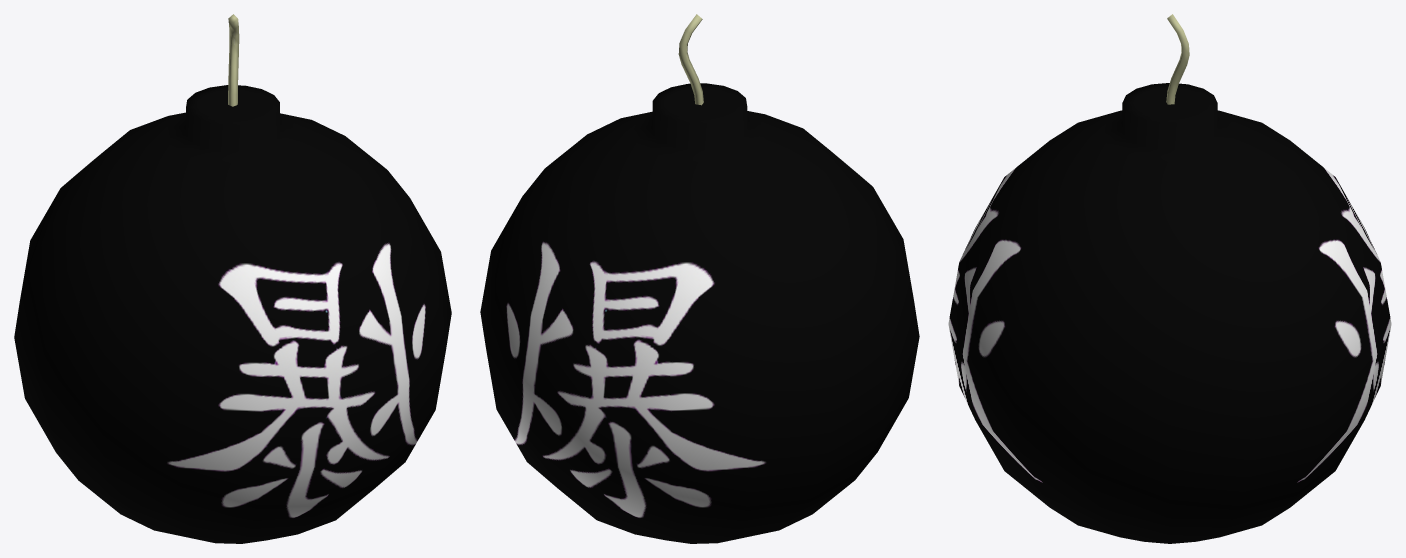
The model's file is bomb.fbx.
3 views of the same model, side by side, from view 1: azimuth 30°, elevation 25°; view 2: azimuth 150°, elevation 25°; view 3: azimuth 270°, elevation 25° (orthographic).
Parts seen in each view (by area): view 1: bomb; view 2: bomb; view 3: bomb.
Part boxes in pixels (left/top/right/bottom): bomb: left=14, top=14, right=451, bottom=543; bomb: left=480, top=14, right=919, bottom=543; bomb: left=948, top=14, right=1391, bottom=543.
Size of the model in its own units: 29.84 by 38.02 by 29.84.
